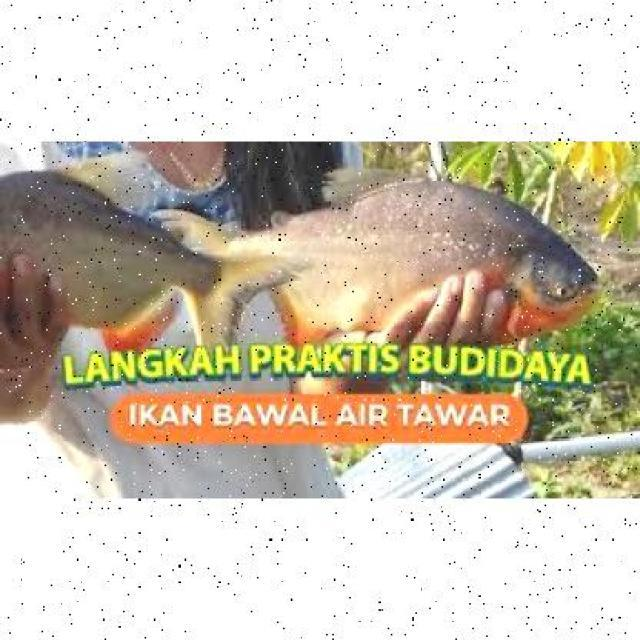ikan-pacu: (188, 164, 600, 340)
